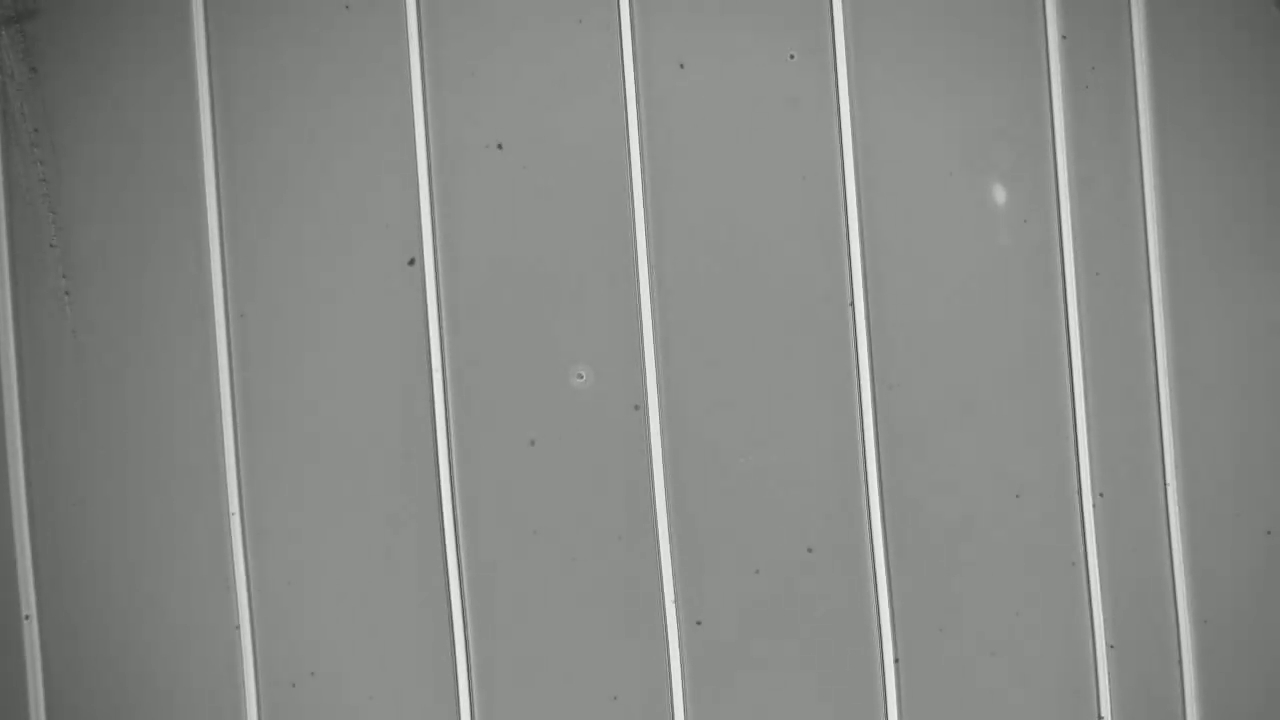scratch: (4, 12, 87, 317)
